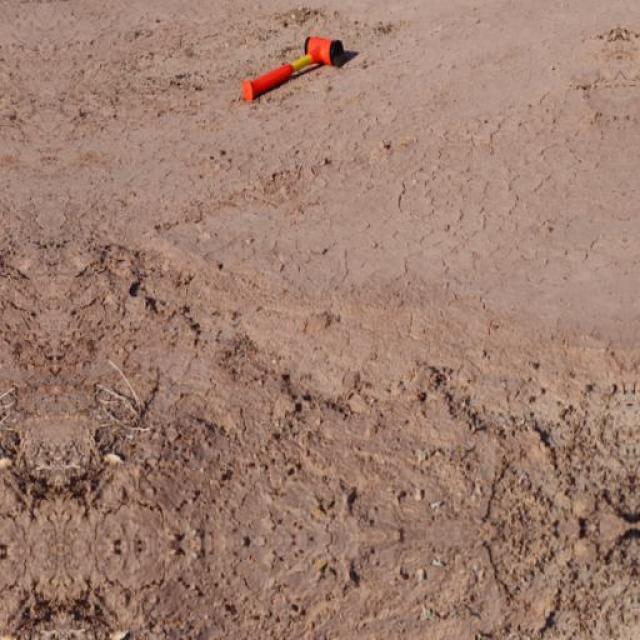mallet: (240, 34, 344, 101)
